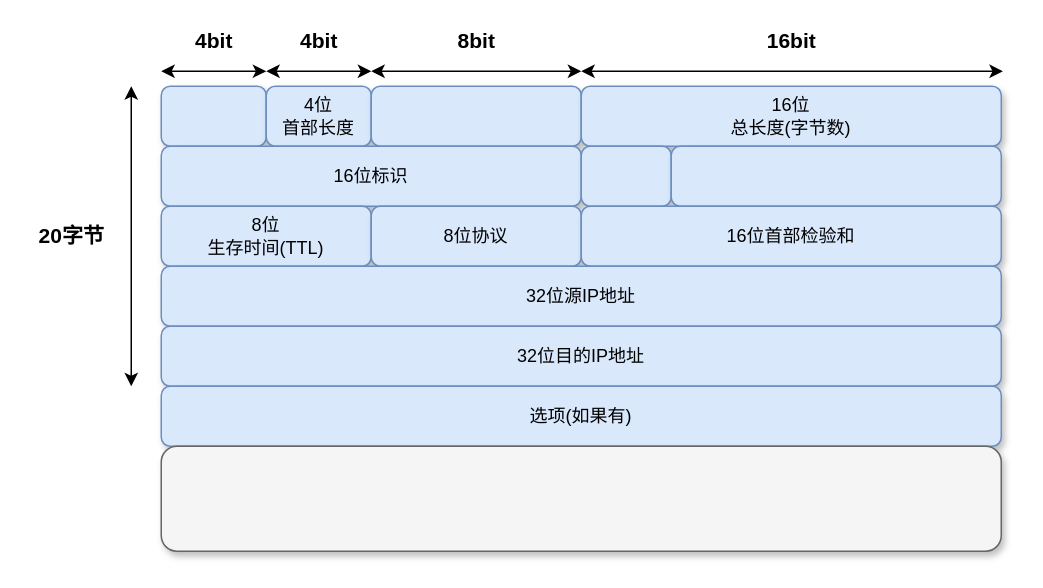
The diagram is 1043 pixels wide and 588 high, and some of its shapes have lost their labels. The shapes that lost their labels are listed below. From the top down, each one's centre as x and y in pixels, then its label:
point 214,118: 4位 版本
point 477,118: 8位 服务类型(TOS)
point 627,178: 3位标志
point 837,178: 13位片偏移
point 582,500: 数据
